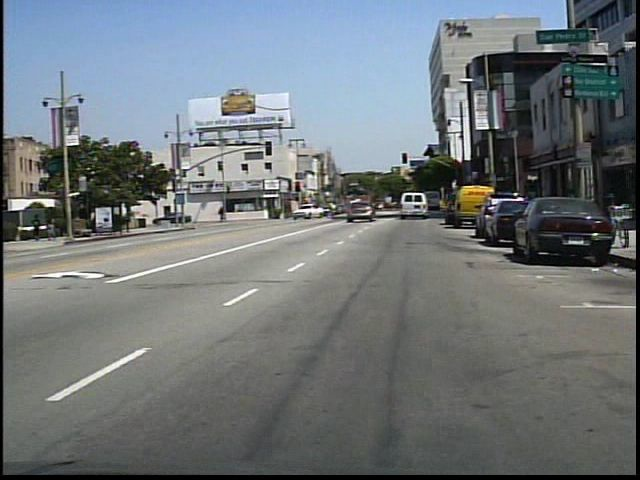person: (48, 214, 64, 245), (34, 212, 48, 243), (220, 204, 229, 224)
